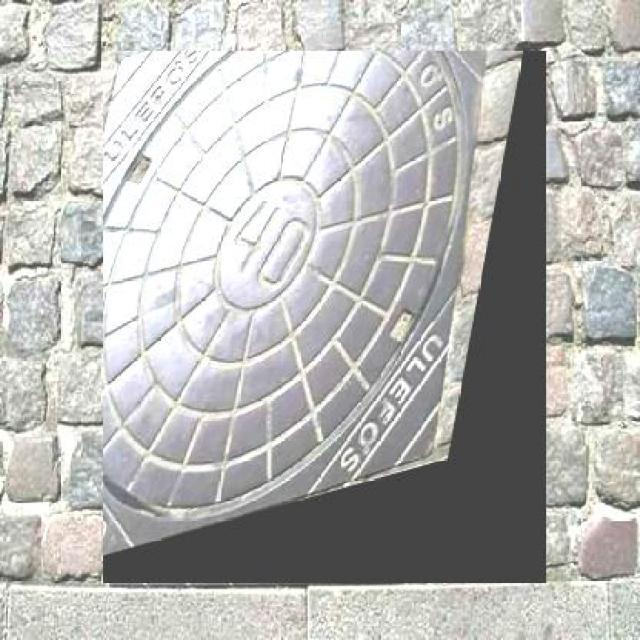Manhole: (103, 51, 546, 584)
